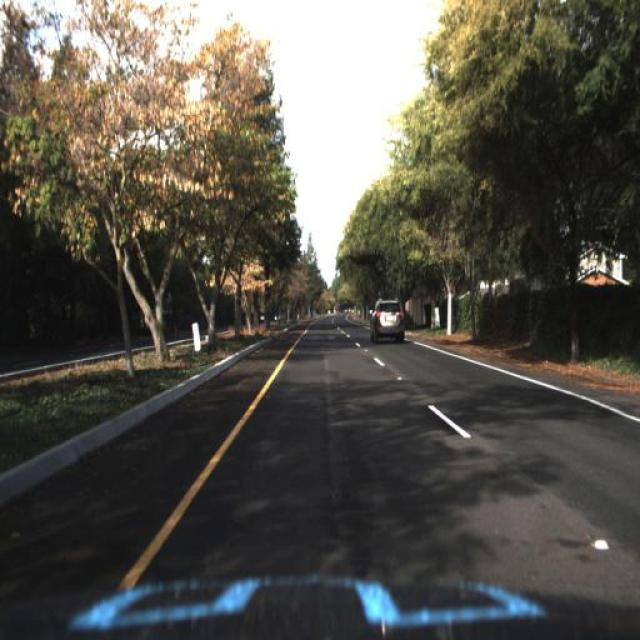car: (366, 294, 405, 344)
